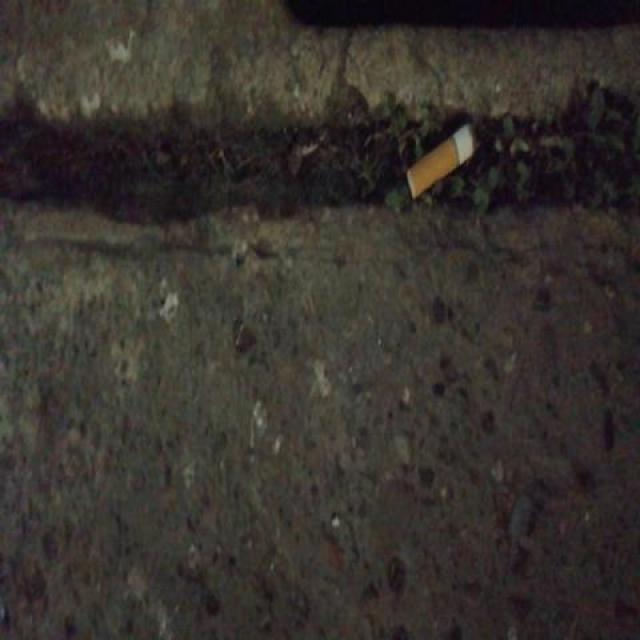non-organic waste: (403, 120, 481, 204)
